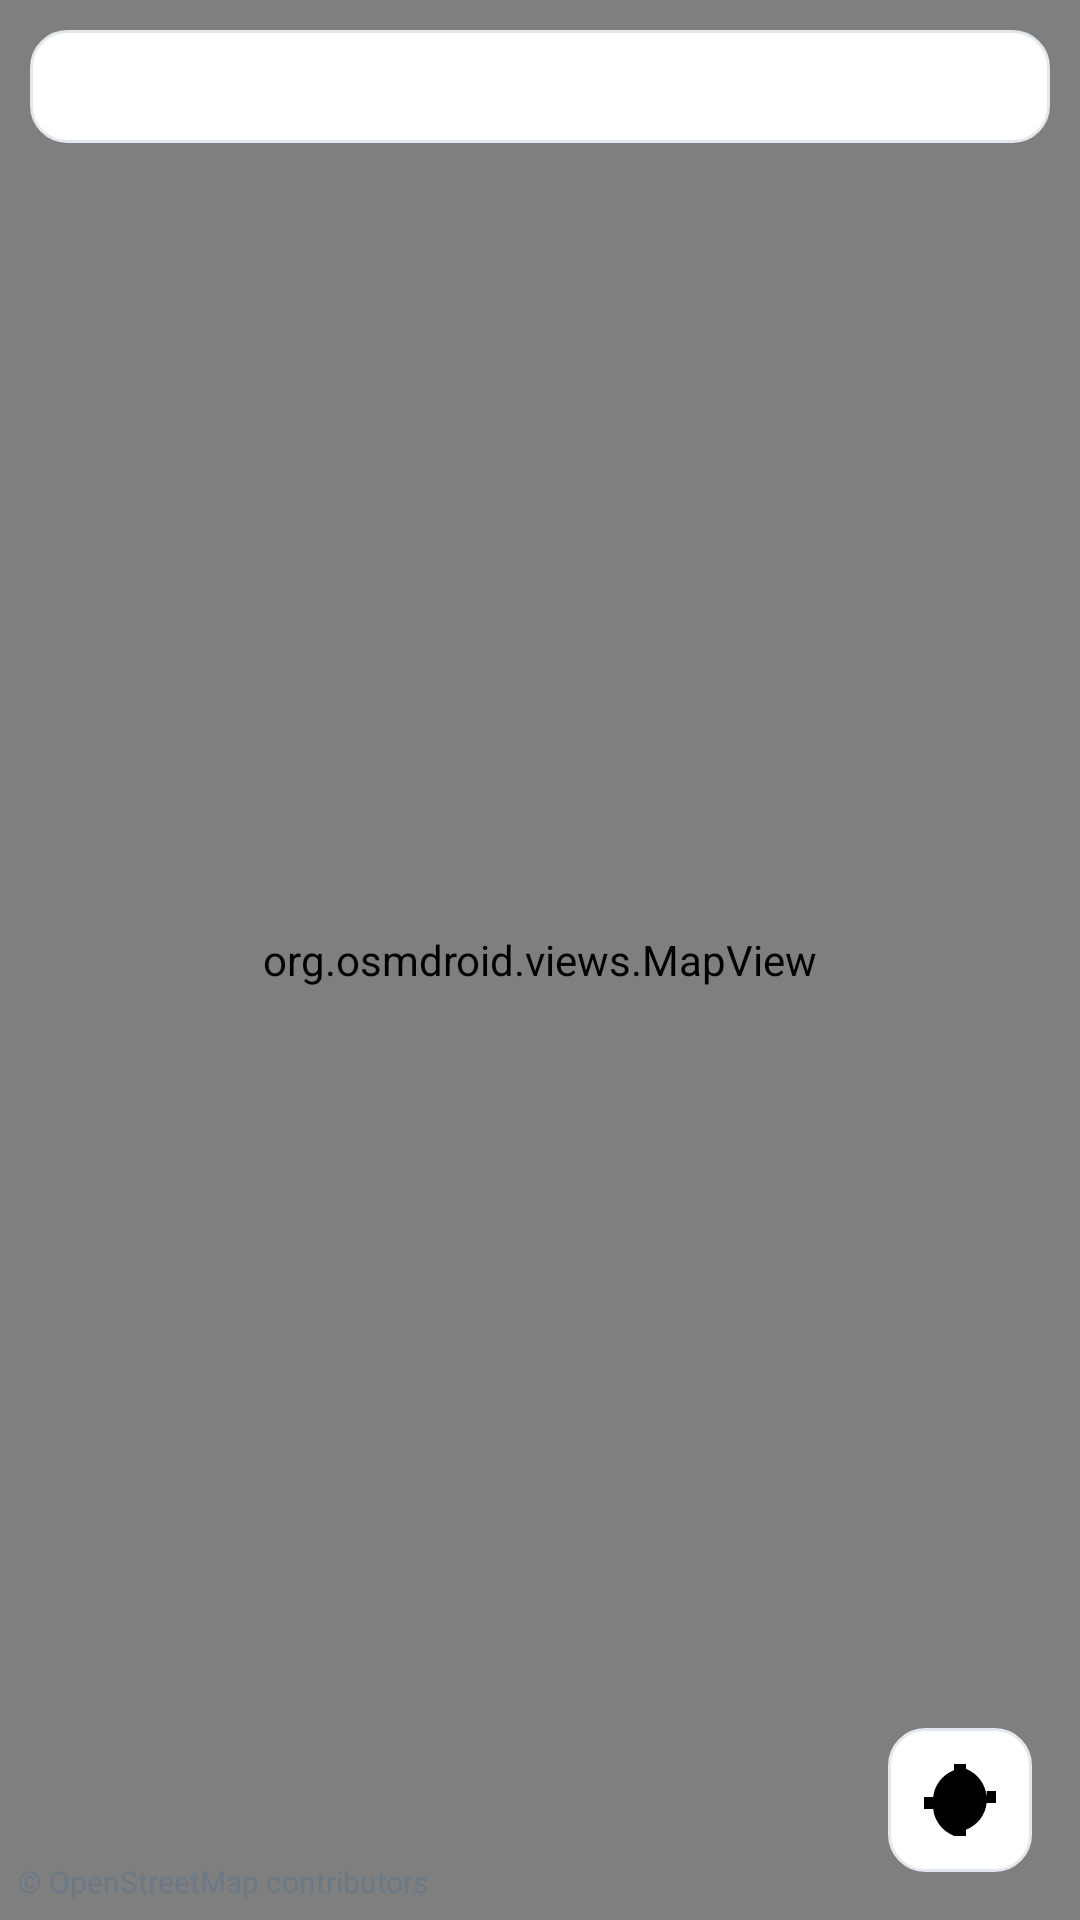

Point at icon controls on the screen. Image size 1080×1920, points as (x,y).
Center the map on my area: (960,1800)
